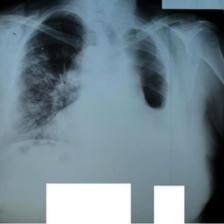tuberculosis: (11, 5, 175, 172)
